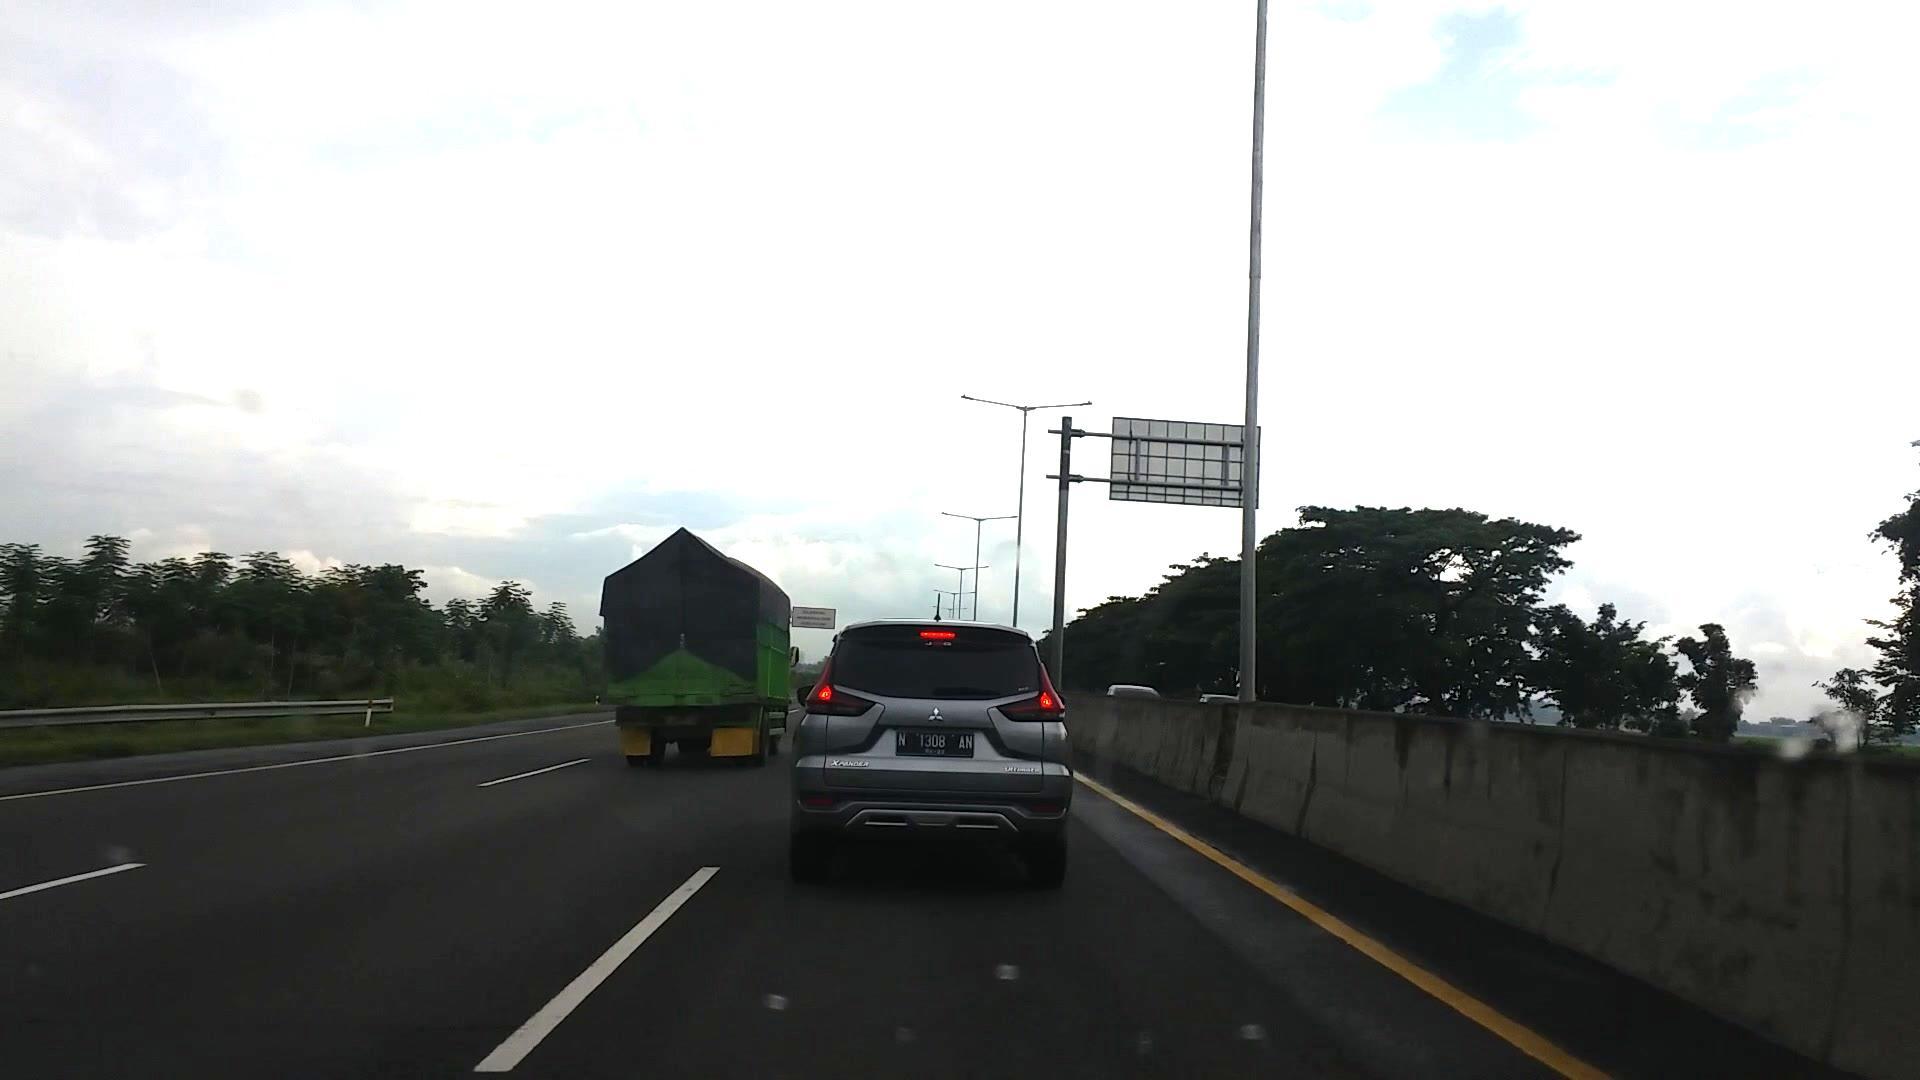plate_positive: (895, 729, 975, 758)
